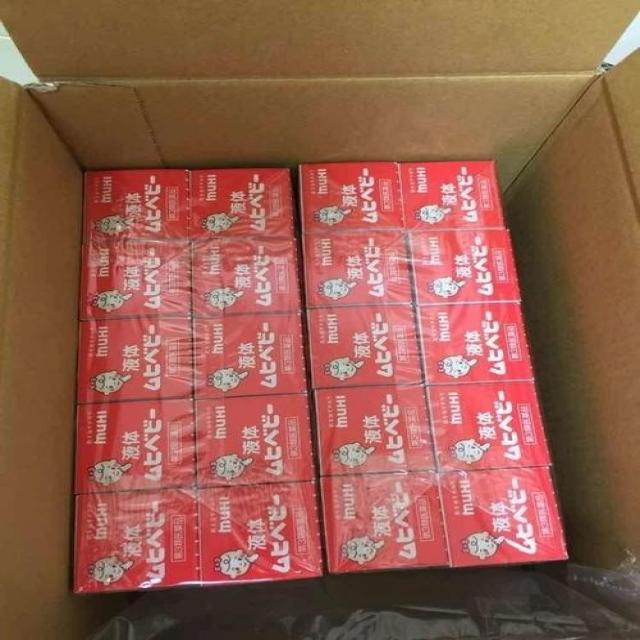box: (320, 470, 449, 574), (197, 481, 323, 587), (73, 488, 200, 593), (437, 466, 569, 567), (74, 398, 196, 494), (426, 381, 553, 473), (197, 393, 315, 488), (314, 384, 436, 475), (77, 316, 193, 404), (414, 301, 534, 385), (307, 305, 423, 389), (194, 313, 308, 398), (78, 241, 191, 321), (192, 238, 302, 317), (406, 230, 521, 305), (303, 231, 413, 308), (83, 169, 189, 244), (398, 160, 507, 232), (299, 162, 404, 233), (189, 169, 295, 238)
